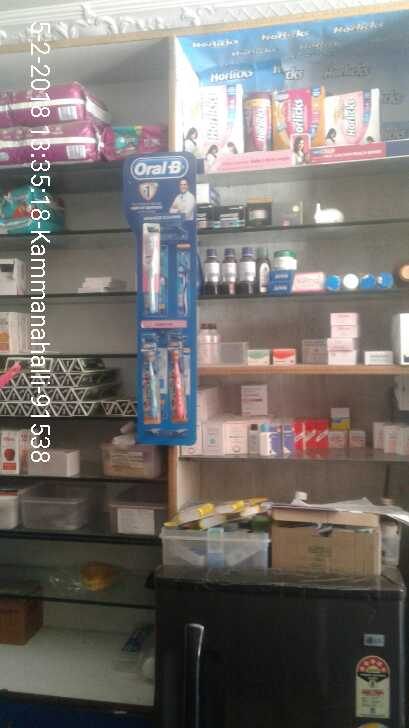oralb: (165, 340, 197, 438), (138, 224, 164, 321), (137, 344, 161, 425)
